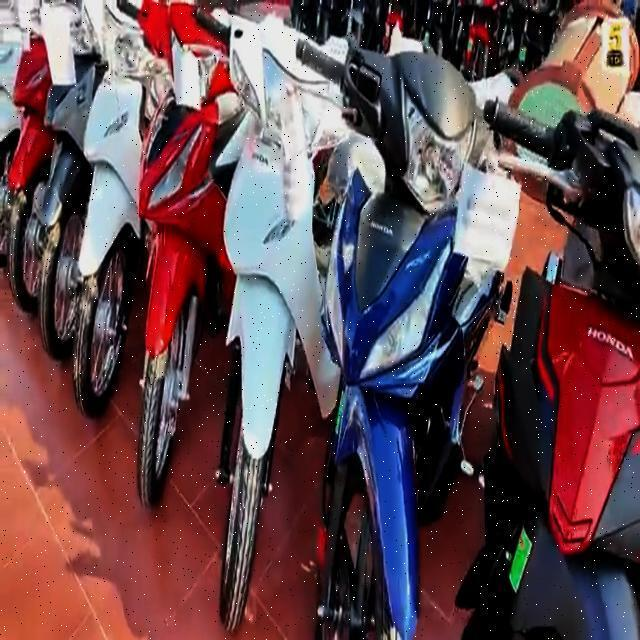motorcycle: (311, 44, 484, 640), (192, 11, 334, 621), (491, 91, 640, 640), (125, 5, 223, 518), (3, 11, 129, 403)
